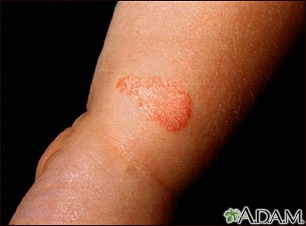Ringworm: (42, 37, 197, 109)
